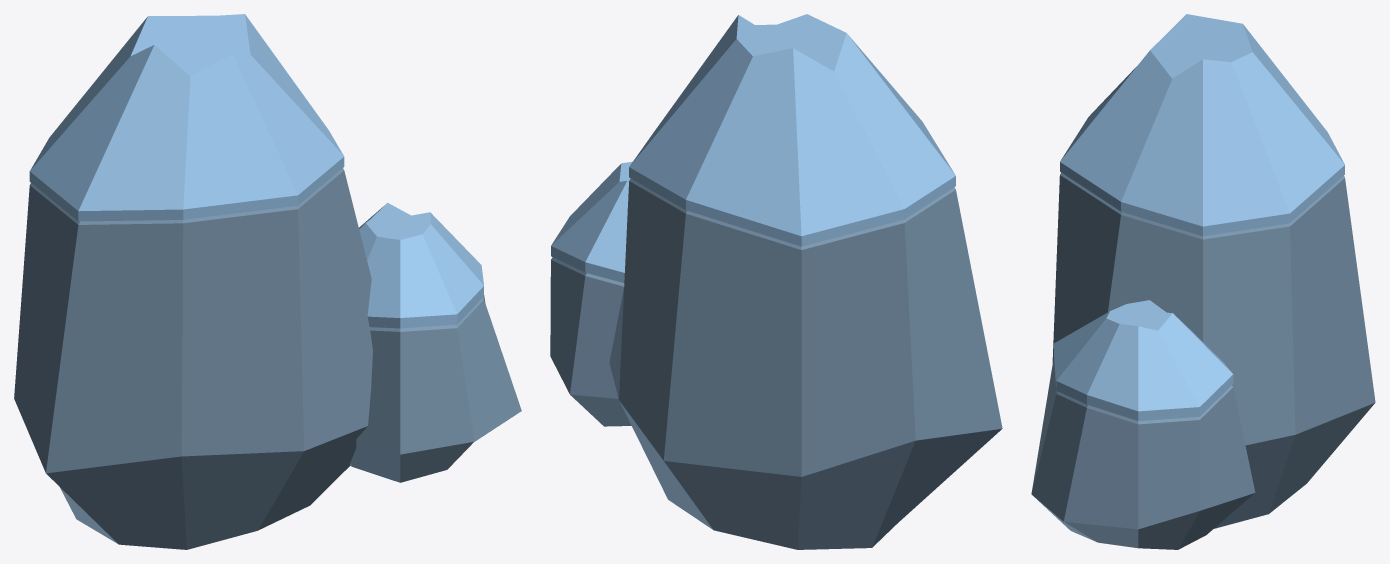
File: rock_split.glb
The picture shows the model from 3 angles, left to right: view 1: azimuth 30°, elevation 25°; view 2: azimuth 150°, elevation 25°; view 3: azimuth 270°, elevation 25°; orthographic projection. The views are drawn at different scales.
Visible parts, largest first — view 1: Near; view 2: Near; view 3: Near.
Boxes of the visible parts, bbox=[...] form: Near: bbox=[14, 14, 521, 549]; Near: bbox=[550, 14, 1002, 549]; Near: bbox=[1031, 14, 1375, 549].
Size of the model in its own units: 2.04 by 2.11 by 1.44.
